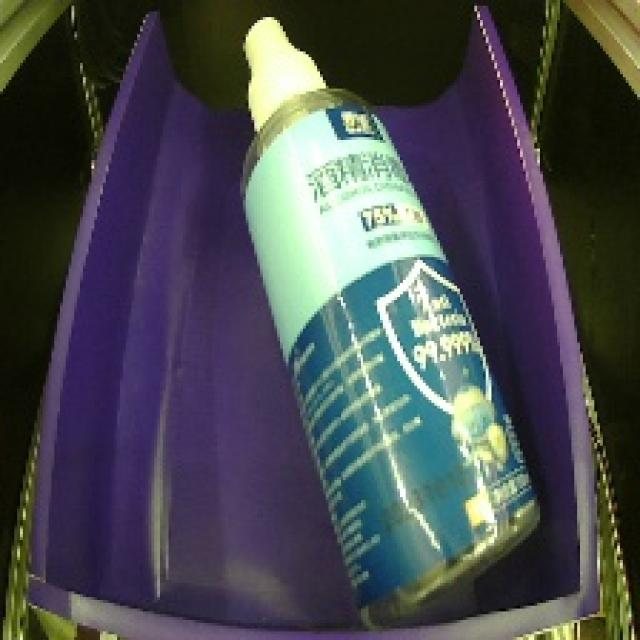plastic: (189, 10, 572, 640)
